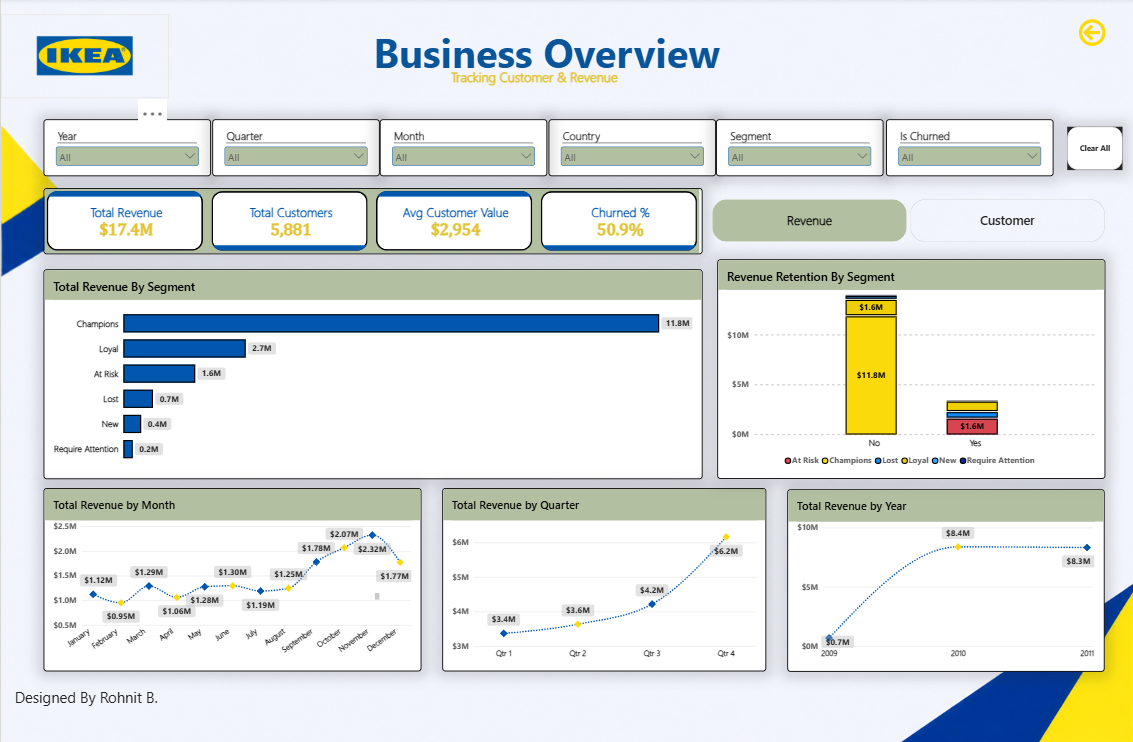

Layout of this report page (visuals, bound fields, positions):
{"tool":"powerbi","page":{"name":"Page 2","canvas":[2050,1350],"ordinal":1},"visuals":[{"type":"cardVisual","fields":{"Data":["Sales_Data.Total Revenue","Sales_Data.Total Customers","Sales_Data.Avg Customer Value","Sales_Data.Churned %"]},"box":[78,344,1192.5,120],"z":0},{"type":"barChart","title":"Total Revenue By Segment","fields":{"Category":["Sales_Data.segment"],"Y":["Sum(Sales_Data.revenue)"]},"box":[77.5,490,1192.5,380],"z":0,"group":"g1"},{"type":"slicer","fields":{"Values":["Sales_Data.invoice_date.Variation.Date Hierarchy.Year"]},"box":[78,220,303.3,103.3],"z":1000},{"type":"lineChart","fields":{"Category":["Sales_Data.invoice_date.Variation.Date Hierarchy.Month"],"Y":["Sales_Data.Total Revenue"]},"box":[77.5,885,684,332],"z":1000,"group":"g1"},{"type":"slicer","fields":{"Values":["Sales_Data.invoice_date.Variation.Date Hierarchy.Quarter"]},"box":[382,220,303,103],"z":2000},{"type":"lineChart","fields":{"Category":["Sales_Data.invoice_date.Variation.Date Hierarchy.Quarter"],"Y":["Sales_Data.Total Revenue"]},"box":[800,885,586,332],"z":2000,"group":"g1"},{"type":"slicer","fields":{"Values":["Sales_Data.country"]},"box":[990,220,303,103],"z":3000},{"type":"lineChart","fields":{"Category":["Sales_Data.invoice_date.Variation.Date Hierarchy.Year"],"Y":["Sales_Data.Total Revenue"]},"box":[1423.7,887.5,574,330],"z":3000,"group":"g1"},{"type":"slicer","fields":{"Values":["Sales_Data.invoice_date.Variation.Date Hierarchy.Month"]},"box":[686,220,303,103],"z":4000},{"type":"columnChart","title":"Revenue Retention By Segment","fields":{"Category":["Sales_Data.ischurned"],"Series":["Sales_Data.segment"],"Y":["Sales_Data.Total Revenue"]},"box":[1296.7,471.7,702.5,397.5],"z":4000,"group":"g1"},{"type":"slicer","fields":{"Values":["Sales_Data.segment"]},"box":[1294,220,303,103],"z":5000},{"type":"slicer","fields":{"Values":["Sales_Data.ischurned"]},"box":[1602,220,303,103],"z":6000},{"type":"actionButton","box":[1930,232,100,78],"z":7000},{"type":"image","box":[0,30,303,150],"z":8000},{"type":"actionButton","box":[1900,0,150,125],"z":9000},{"type":"group","id":"g1","title":"Revenue","box":[77.5,471.7,1921.7,745.8],"z":10000},{"type":"bookmarkNavigator","box":[1288,364,710,77.5],"z":11000},{"type":"textbox","box":[92,1076,592,12],"z":13000},{"type":"textbox","box":[456,756,228,146],"z":14000},{"type":"textbox","box":[25,1247.5,277.5,42.5],"z":15000},{"type":"textbox","box":[675,50,684,150],"z":16000},{"type":"textbox","box":[814,126,684,150],"z":17000}]}

Visuals, with their boxes in screenshot pixels (x1, y1, x2, y2), scaled from the page's 2050x1350 canvas onto the 1133x742 screenshot:
cardVisual - Sales_Data.Total Revenue x Sales_Data.Total Customers: detection(43, 189, 702, 255)
"Total Revenue By Segment" barChart: detection(43, 269, 702, 478)
slicer - Sales_Data.invoice_date.Variation.Date Hierarchy.Year: detection(43, 121, 211, 178)
lineChart - Sales_Data.invoice_date.Variation.Date Hierarchy.Month x Sales_Data.Total Revenue: detection(43, 486, 421, 669)
slicer - Sales_Data.invoice_date.Variation.Date Hierarchy.Quarter: detection(211, 121, 379, 178)
lineChart - Sales_Data.invoice_date.Variation.Date Hierarchy.Quarter x Sales_Data.Total Revenue: detection(442, 486, 766, 669)
slicer - Sales_Data.country: detection(547, 121, 715, 178)
lineChart - Sales_Data.invoice_date.Variation.Date Hierarchy.Year x Sales_Data.Total Revenue: detection(787, 488, 1104, 669)
slicer - Sales_Data.invoice_date.Variation.Date Hierarchy.Month: detection(379, 121, 547, 178)
"Revenue Retention By Segment" columnChart: detection(717, 259, 1105, 478)
slicer - Sales_Data.segment: detection(715, 121, 883, 178)
slicer - Sales_Data.ischurned: detection(885, 121, 1053, 178)
actionButton: detection(1067, 128, 1122, 170)
image: detection(0, 16, 167, 99)
actionButton: detection(1050, 0, 1132, 69)
"Revenue" group: detection(43, 259, 1105, 669)
bookmarkNavigator: detection(712, 200, 1104, 243)
textbox: detection(51, 591, 378, 598)
textbox: detection(252, 416, 378, 496)
textbox: detection(14, 686, 167, 709)
textbox: detection(373, 27, 751, 110)
textbox: detection(450, 69, 828, 152)
